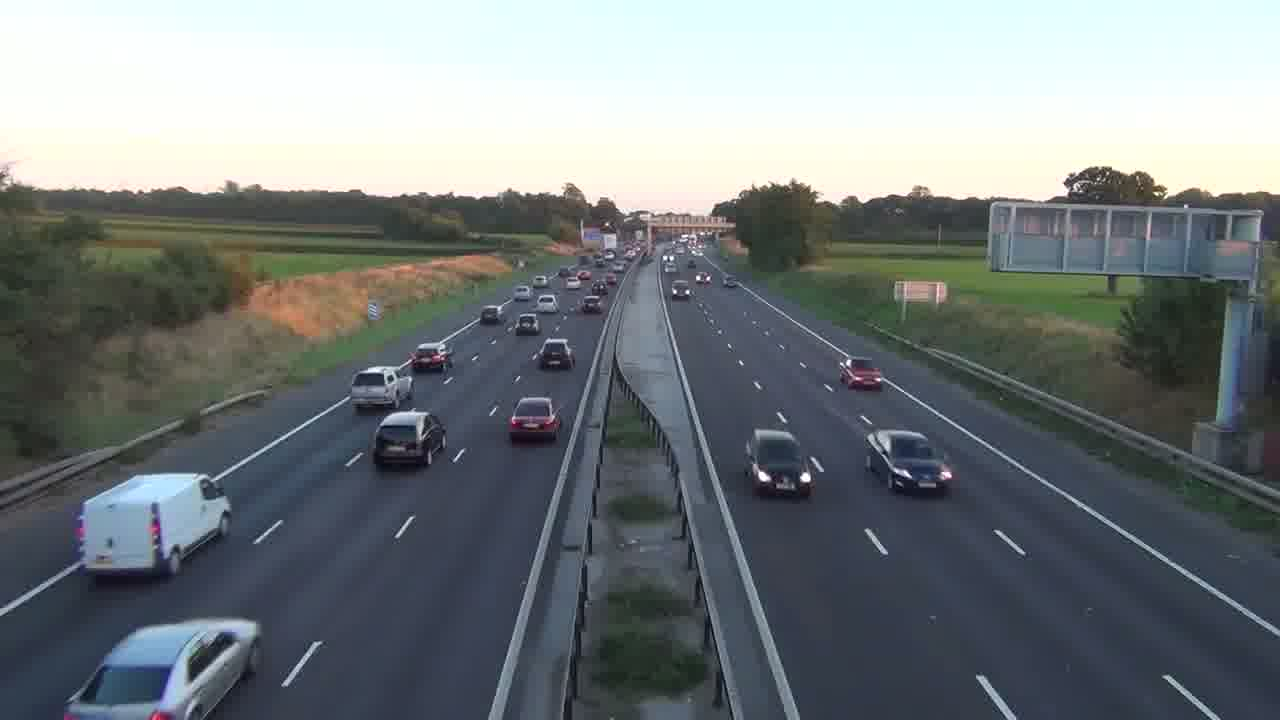car: (63, 617, 261, 719), (863, 428, 955, 496), (743, 428, 825, 499), (371, 409, 448, 469), (508, 396, 562, 443), (837, 356, 883, 391), (532, 337, 576, 370), (412, 342, 450, 371), (532, 291, 561, 313), (512, 313, 539, 335), (671, 279, 692, 298)
truck: (76, 471, 232, 581)
